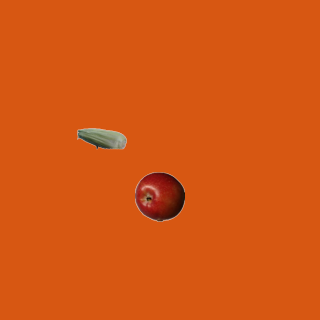Apple Braeburn: (134, 171, 184, 221)
Corn Husk: (76, 113, 126, 163)
